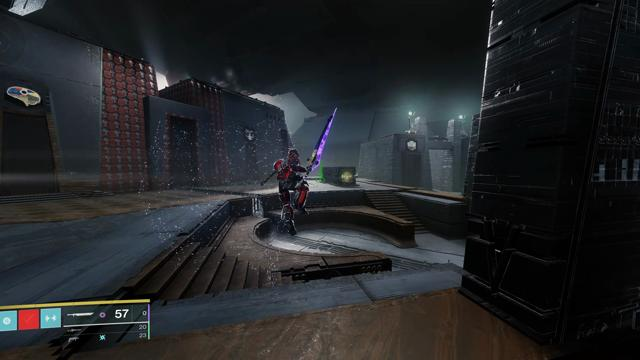brain: (4, 81, 44, 109)
commune: (407, 141, 416, 151)
drink: (245, 128, 255, 140)
